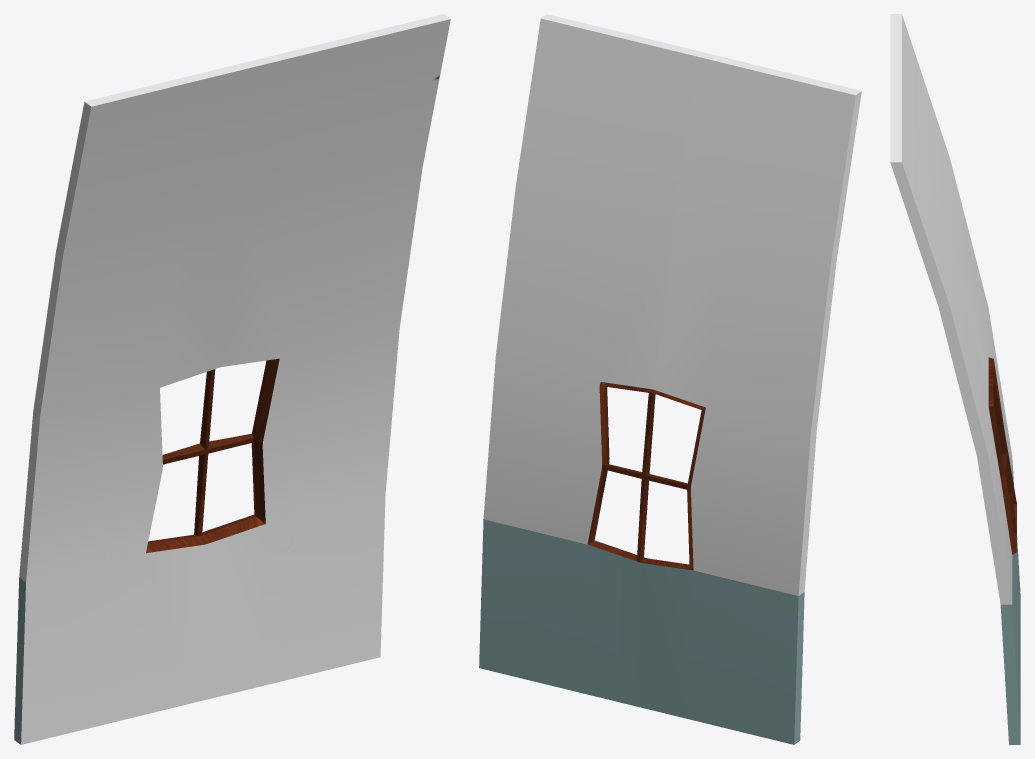
File: window_wall_tall.fbx
3 renders of one model, left to right at view 1: azimuth 30°, elevation 25°; view 2: azimuth 150°, elevation 25°; view 3: azimuth 270°, elevation 25°, orthographic. The views are drawn at different scales.
Parts seen in each view (by area): view 1: windowWall; view 2: windowWall; view 3: windowWall.
Part boxes in pixels (left/top/right/bottom): windowWall: left=14, top=14, right=450, bottom=744; windowWall: left=479, top=14, right=861, bottom=744; windowWall: left=890, top=14, right=1020, bottom=744.
Size of the model in its own units: 300 by 550 by 112.
